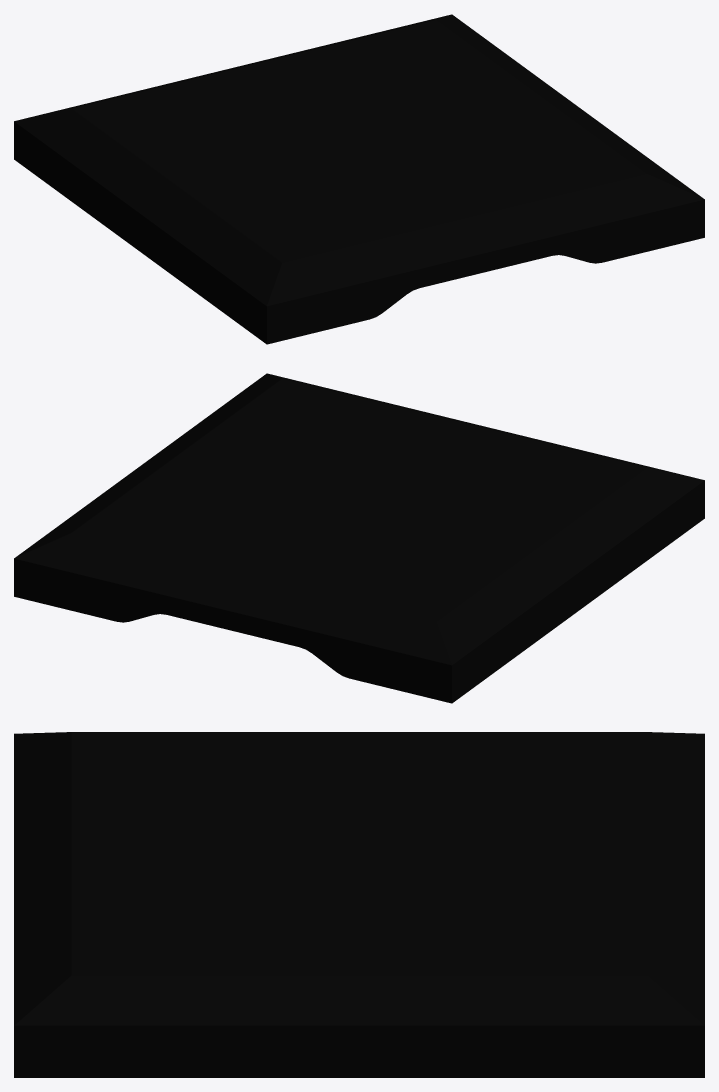
File: Roof_Simple_Top_01.FBX
3 views of the same model, one above another, from view 1: azimuth 30°, elevation 25°; view 2: azimuth 150°, elevation 25°; view 3: azimuth 270°, elevation 25° (orthographic). The views are drawn at different scales.
Visible parts, largest first — view 1: Roof_Simple_Top_01; view 2: Roof_Simple_Top_01; view 3: Roof_Simple_Top_01.
Part boxes in pixels (x1,y1,x2,y2): Roof_Simple_Top_01: (14, 14, 704, 344); Roof_Simple_Top_01: (14, 373, 704, 703); Roof_Simple_Top_01: (14, 732, 704, 1077).
Bounding box in the file's own units: 6 × 0.75 × 6.
